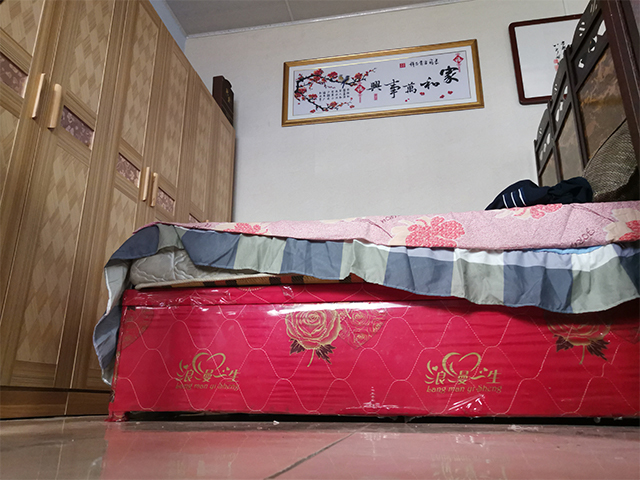bed: (90, 198, 640, 423)
cabinet: (1, 1, 238, 422)
